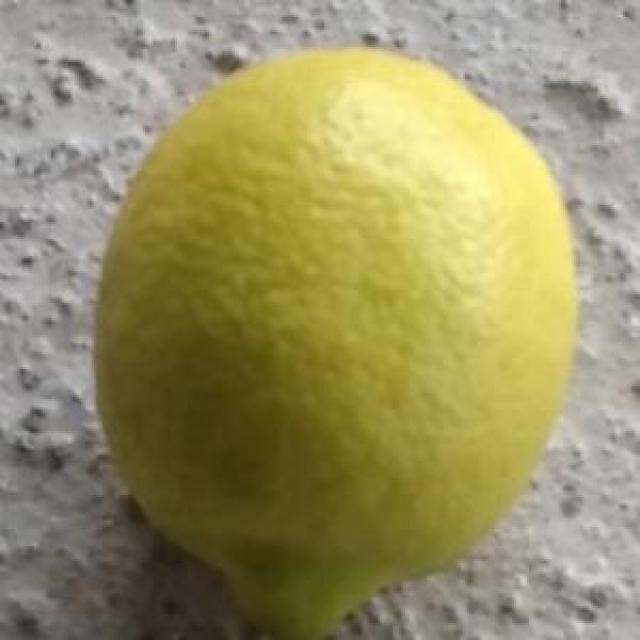lemon: (90, 44, 580, 640)
